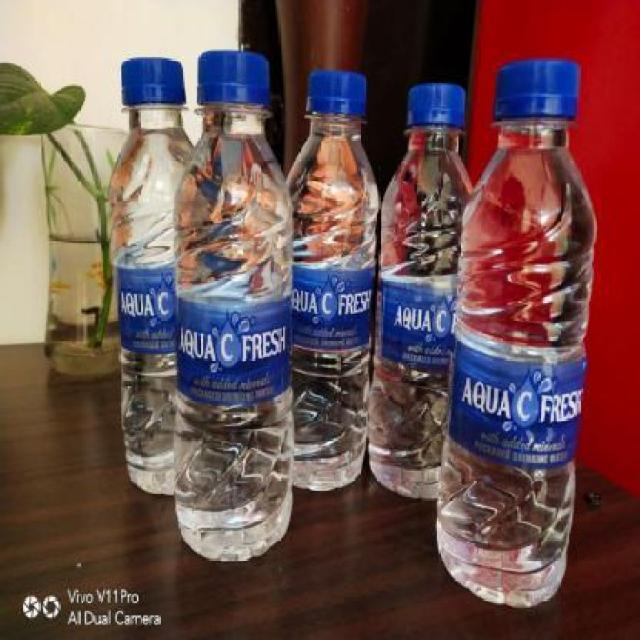bottle: (446, 52, 594, 610), (169, 42, 297, 558), (286, 52, 377, 550), (378, 62, 459, 551), (110, 44, 183, 552)
